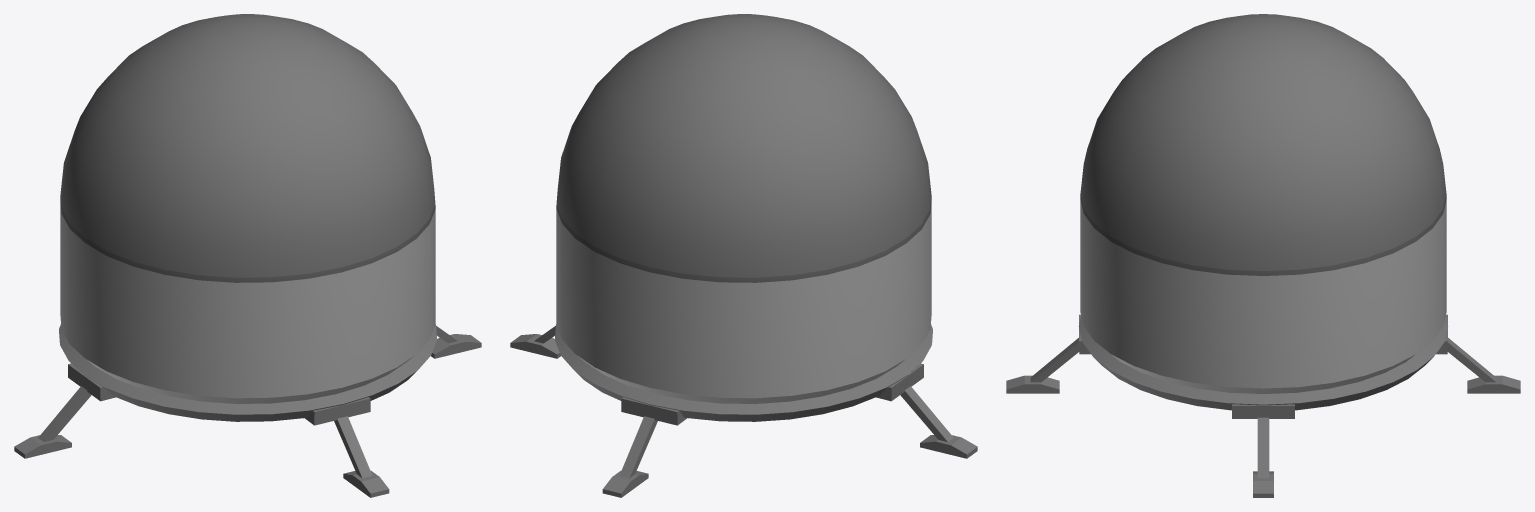
Rendered from House Cylinder.glb.
3 views of the same model, side by side, from view 1: azimuth 30°, elevation 25°; view 2: azimuth 150°, elevation 25°; view 3: azimuth 270°, elevation 25° (orthographic). The views are drawn at different scales.
Parts seen in each view (by area): view 1: House_Cylinder; view 2: House_Cylinder; view 3: House_Cylinder.
Boxes of the visible parts, bbox=[...] form: House_Cylinder: bbox=[14, 14, 481, 497]; House_Cylinder: bbox=[510, 14, 977, 497]; House_Cylinder: bbox=[1006, 14, 1520, 497].
Size of the model in its own units: 5.61 by 4.32 by 5.61.
Materials: 1 (1 with a texture image).
